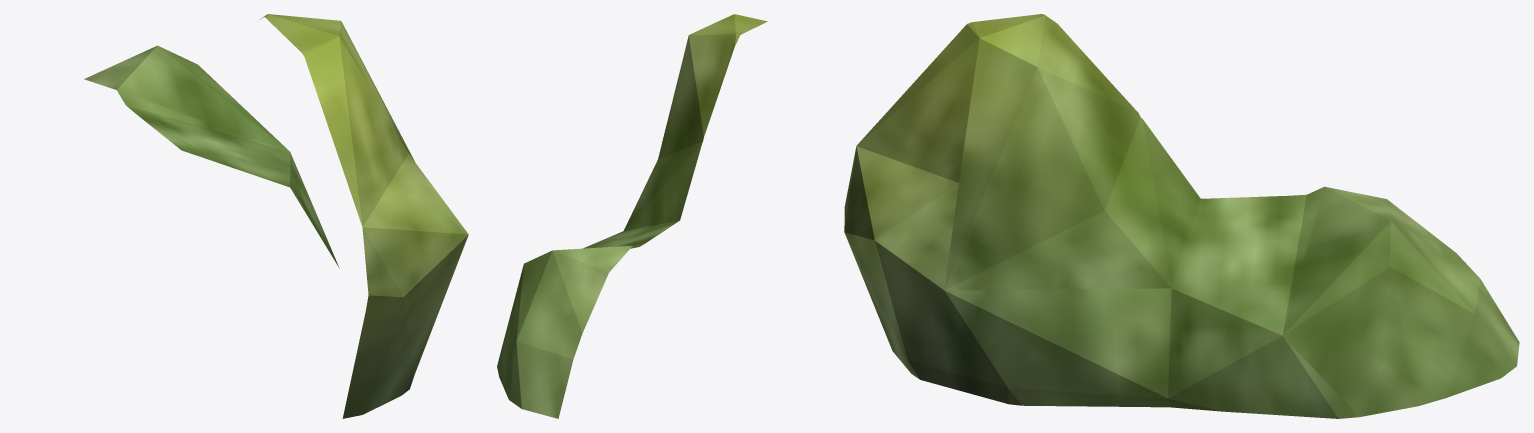
The picture shows the model from 3 angles, left to right: view 1: azimuth 30°, elevation 25°; view 2: azimuth 150°, elevation 25°; view 3: azimuth 270°, elevation 25°; orthographic projection. The views are drawn at different scales.
Size of the model in its own units: 0.1783 by 0.3566 by 0.6632.
1 material, 1 textured.
